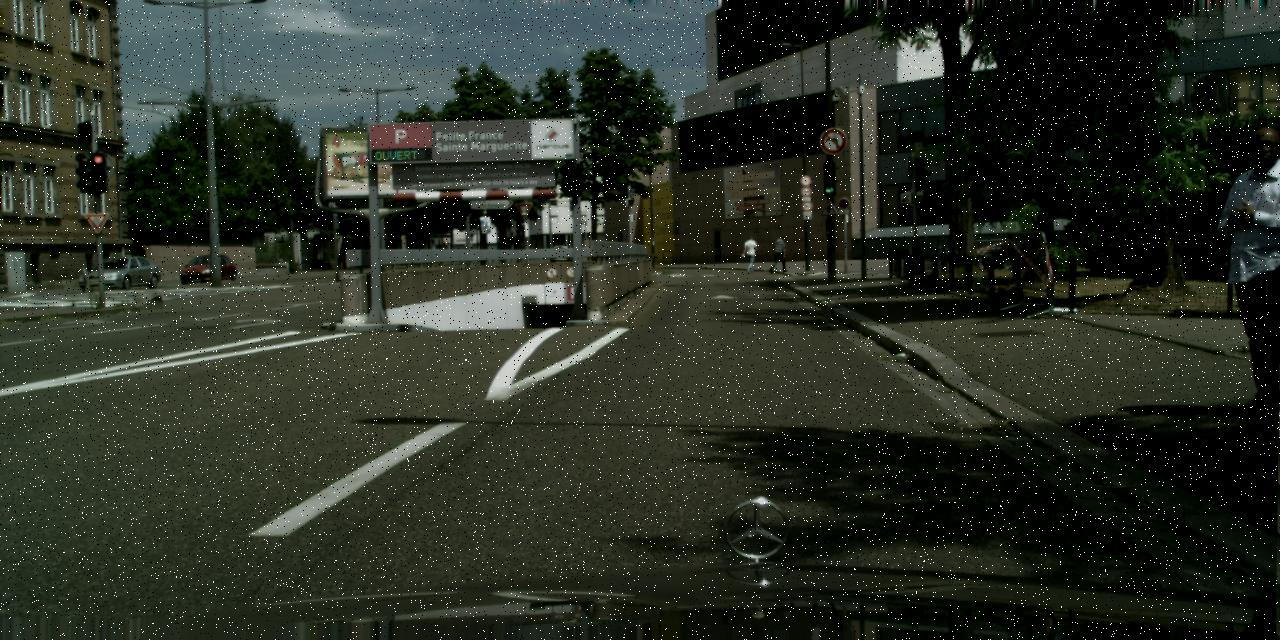ped: (1203, 127, 1279, 418), (772, 236, 788, 273), (743, 236, 758, 274)
